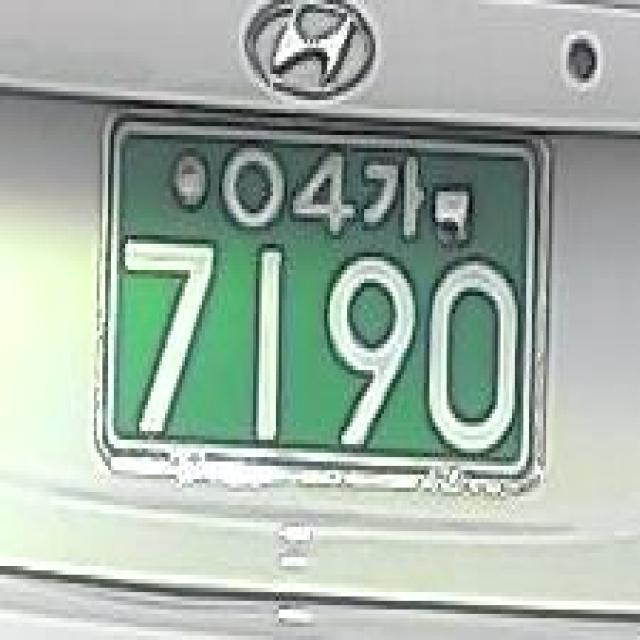illegal_plate: (77, 88, 563, 524)
